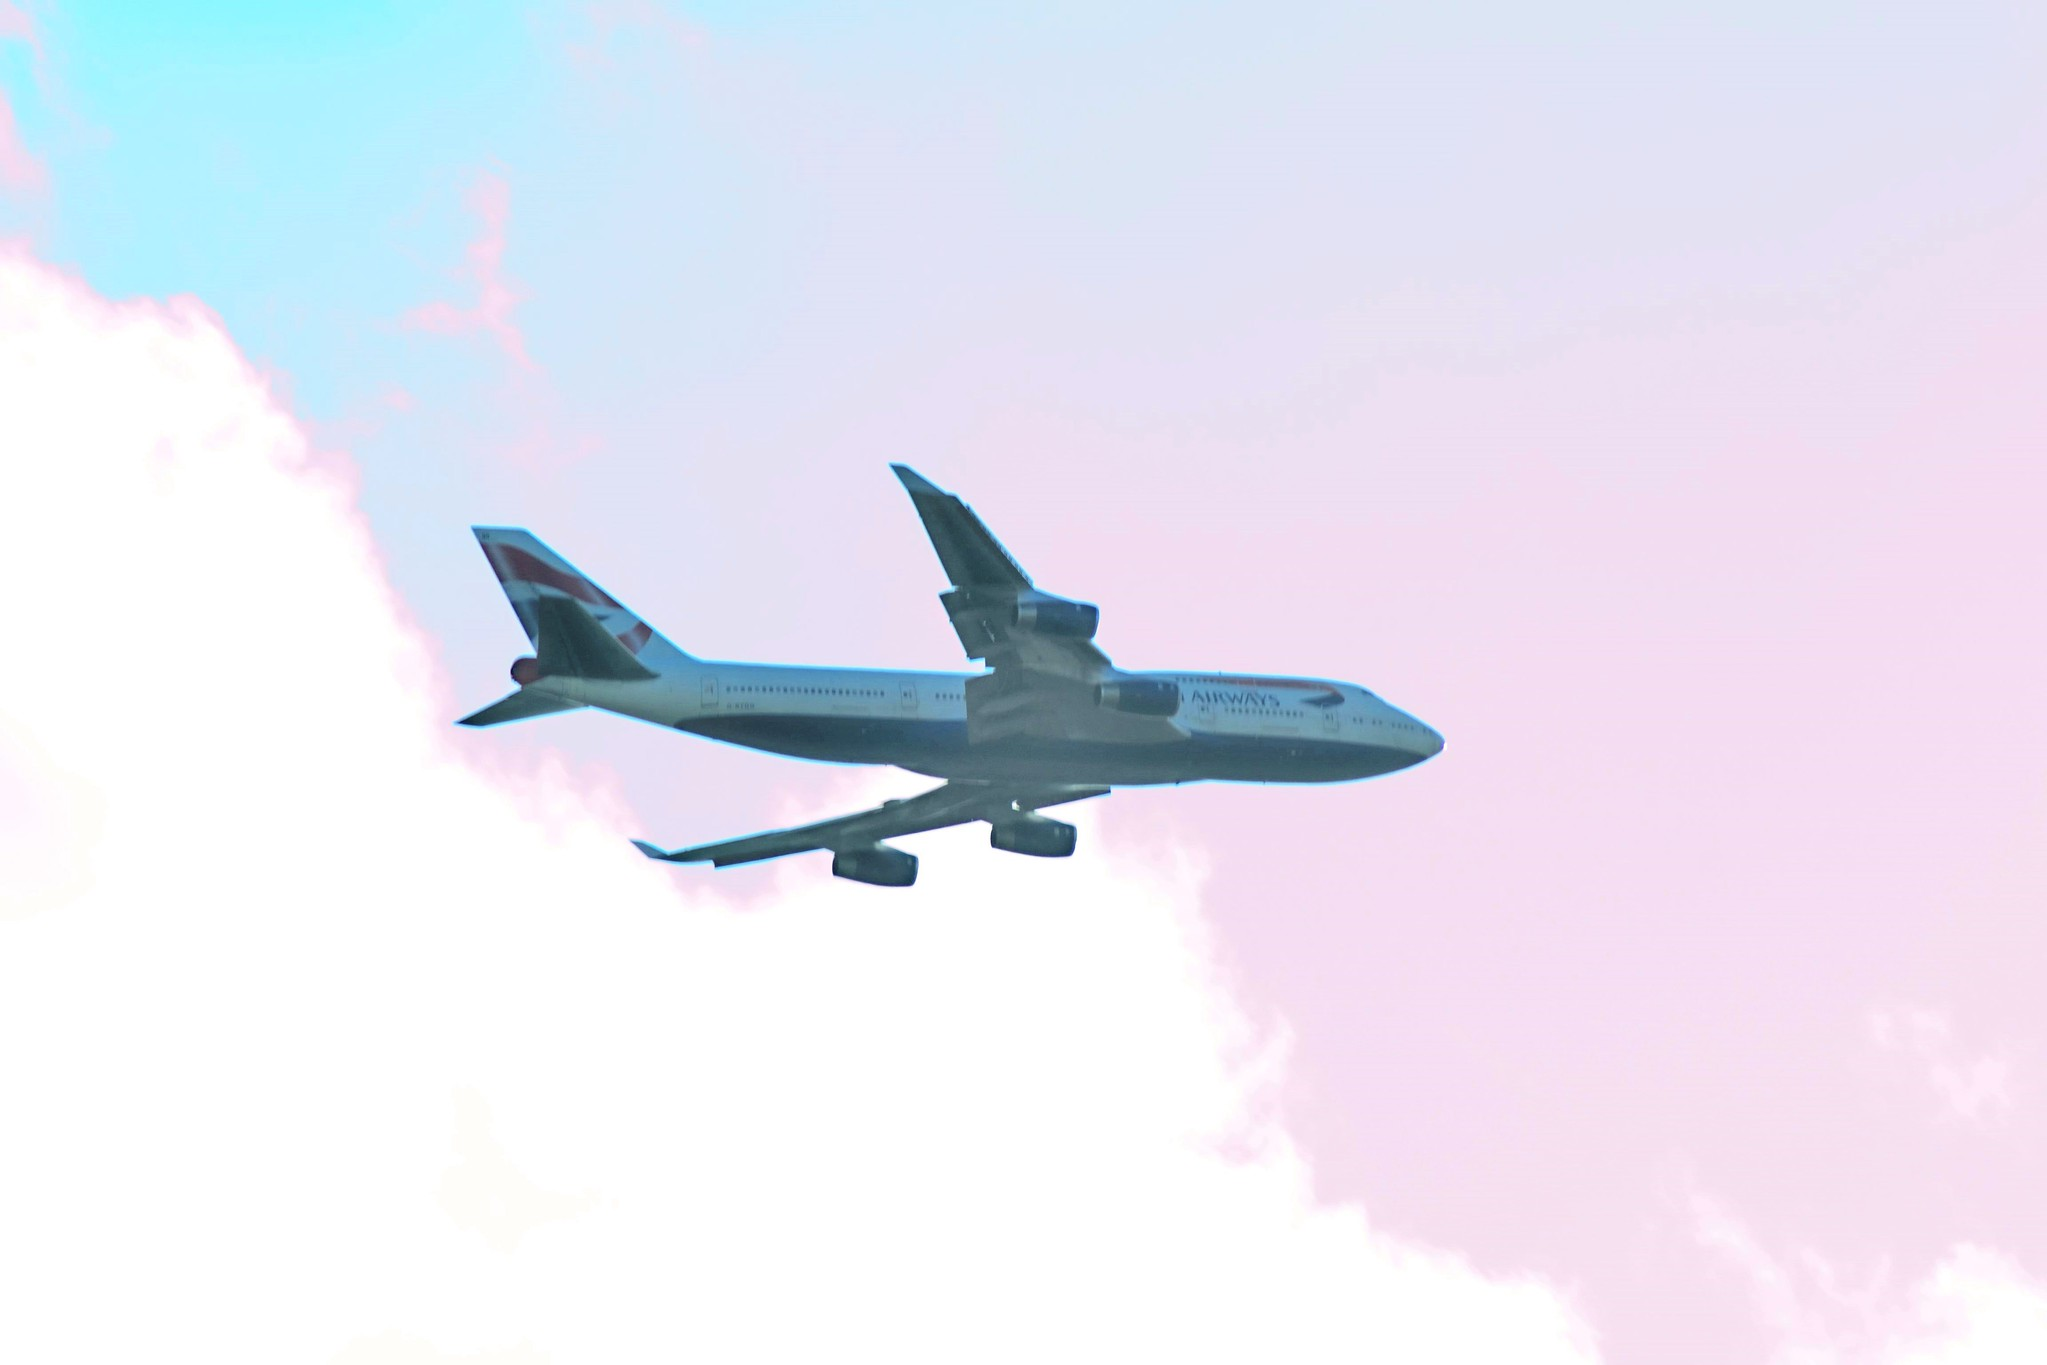aeroplane: (449, 463, 1445, 876)
